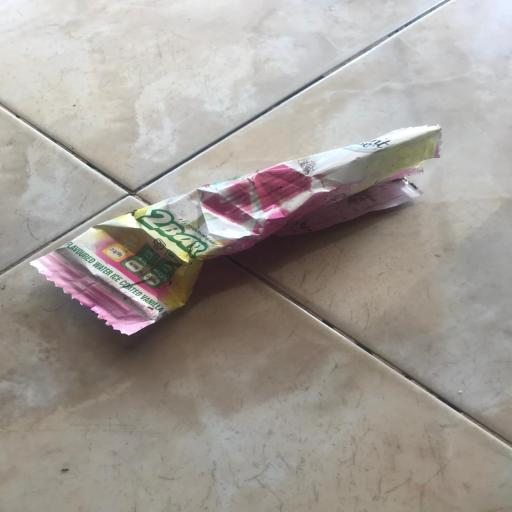waste: (22, 112, 460, 346)
